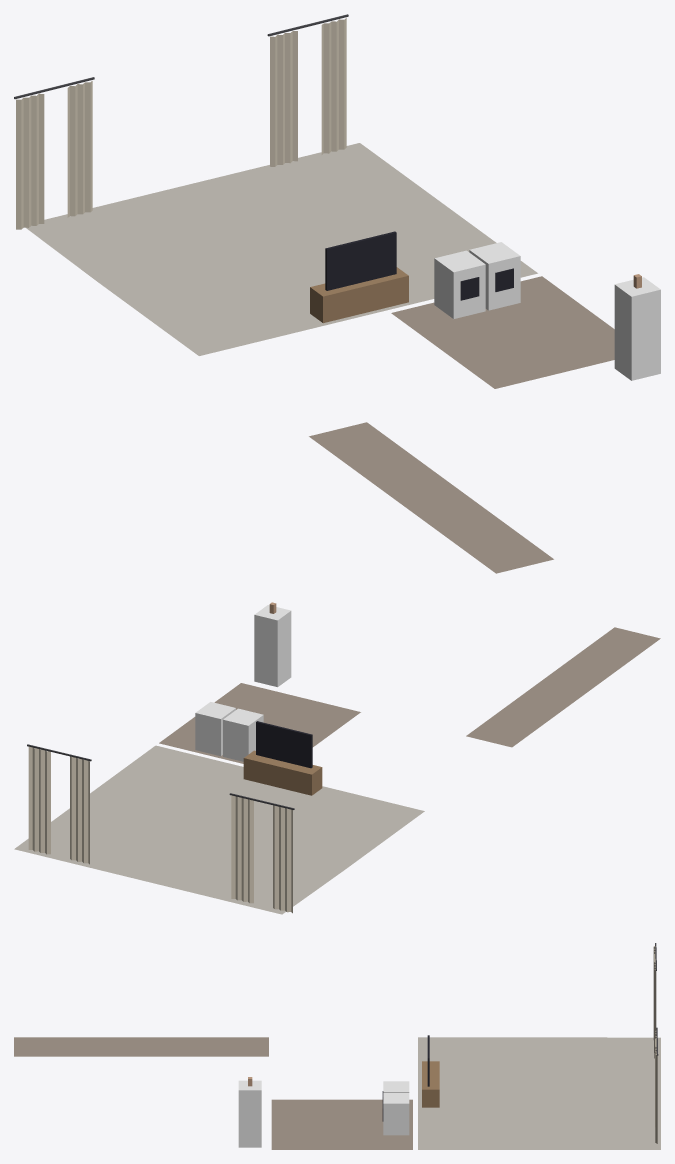
File: fine-s0.glb
3 renders of one model, top to bottom at view 1: azimuth 30°, elevation 25°; view 2: azimuth 150°, elevation 25°; view 3: azimuth 270°, elevation 25°, orthographic. The views are drawn at different scales.
Visible parts, largest first — view 1: soft-s0, tv-console.000, water-heater.000, washer.000, washer.001; view 2: soft-s0, tv-console.000, water-heater.000, washer.000, washer.001; view 3: soft-s0, water-heater.000, washer.001, tv-console.000, washer.000.
Part boxes in pixels (x1=…): soft-s0: x1=14, y1=14, x2=614, y2=573; tv-console.000: x1=310, y1=231, x2=408, y2=323; water-heater.000: x1=614, y1=274, x2=660, y2=380; washer.000: x1=434, y1=250, x2=485, y2=318; washer.001: x1=469, y1=242, x2=520, y2=310; soft-s0: x1=14, y1=627, x2=660, y2=914; tv-console.000: x1=243, y1=721, x2=322, y2=795; water-heater.000: x1=254, y1=602, x2=291, y2=687; washer.000: x1=223, y1=708, x2=263, y2=761; washer.001: x1=195, y1=702, x2=235, y2=756; soft-s0: x1=14, y1=943, x2=660, y2=1149; water-heater.000: x1=238, y1=1077, x2=261, y2=1147; washer.001: x1=382, y1=1093, x2=409, y2=1135; tv-console.000: x1=422, y1=1035, x2=439, y2=1107; washer.000: x1=382, y1=1081, x2=409, y2=1101.
Bounding box in the file's own units: 6.52 × 2.4 × 15.37.
